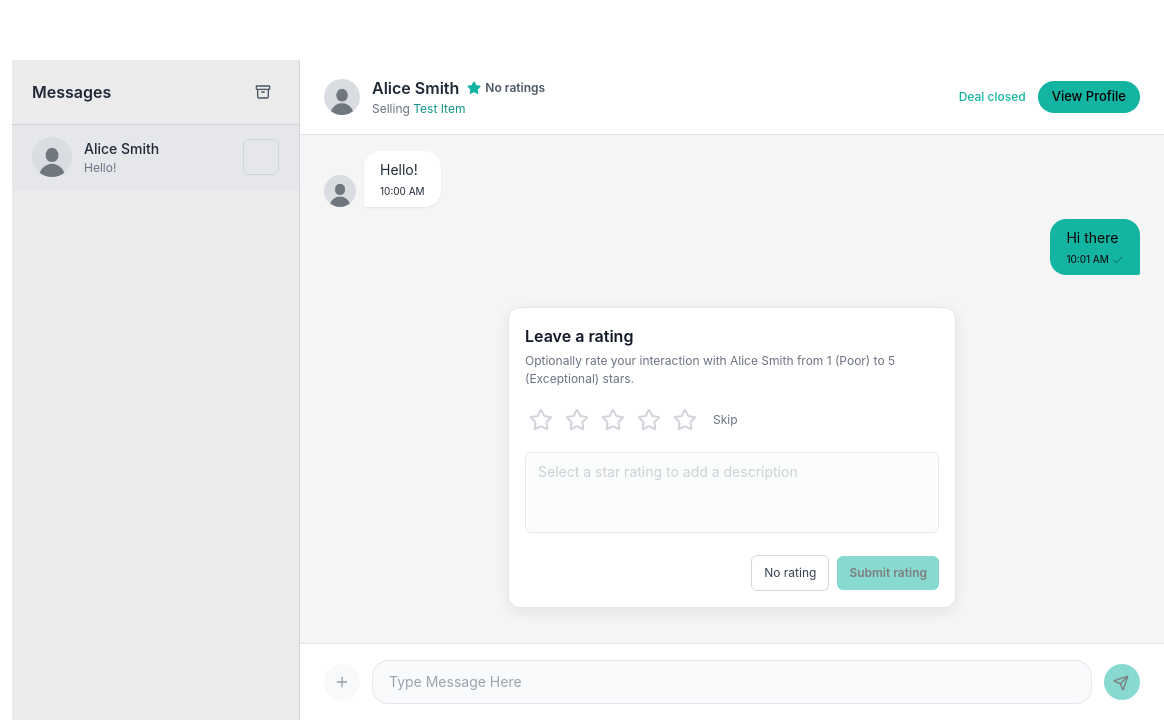
ChatLayout › enables the Submit rating button once a star is clicked
Check: the heading "Leave a rating" is shown, box left=525, top=326, right=633, bottom=346
Click the button named "rate 5 star" at (685, 420), box left=669, top=404, right=701, bottom=436
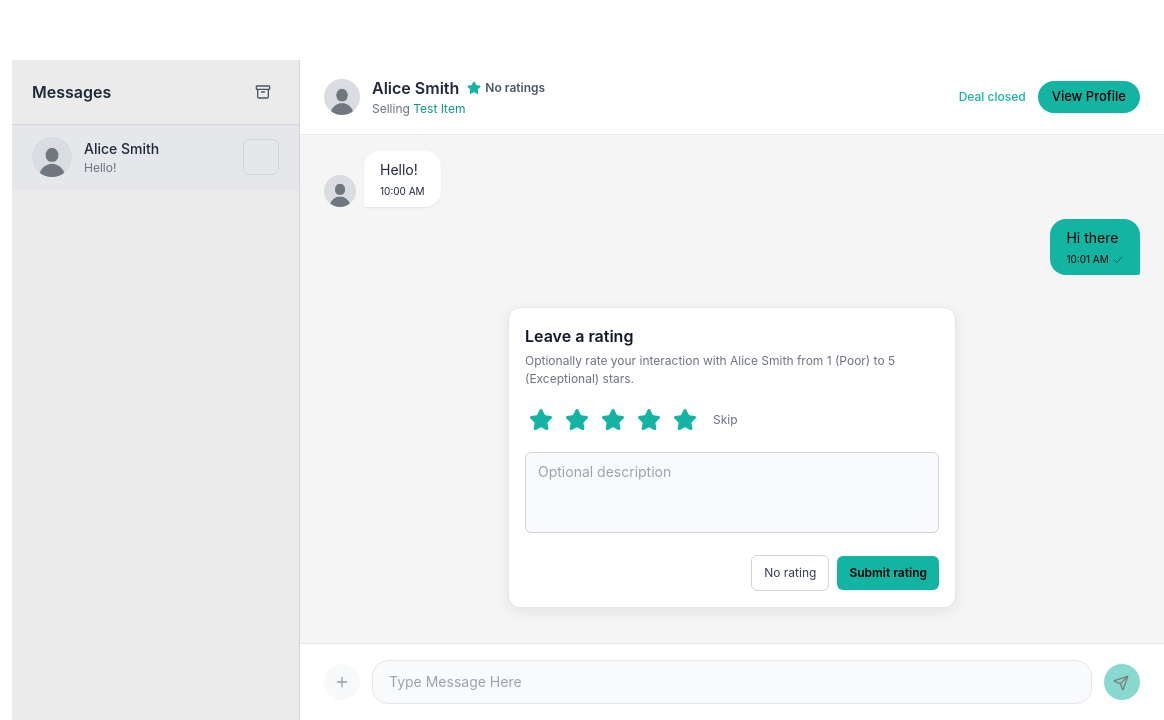
Check: the button "Submit rating" is enabled, box left=837, top=556, right=939, bottom=590
